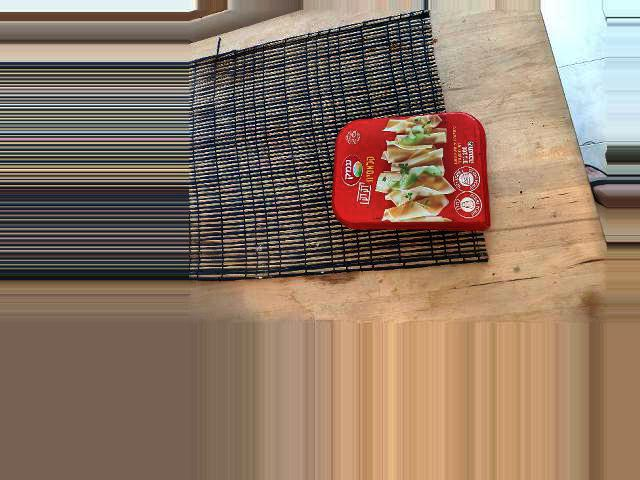cheese: (326, 105, 491, 214)
